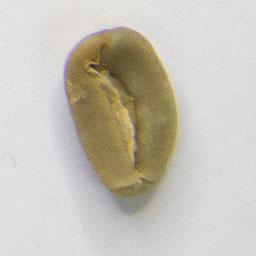longberry: (60, 23, 182, 200)
